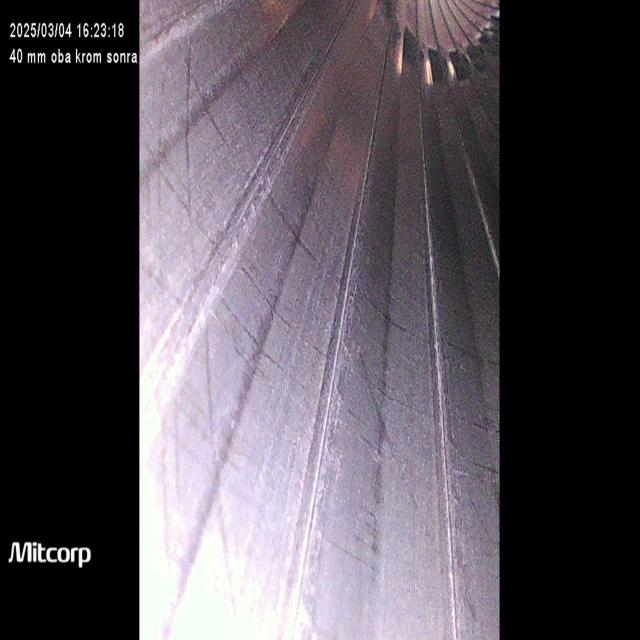hata_9.3: (180, 67, 504, 382)
